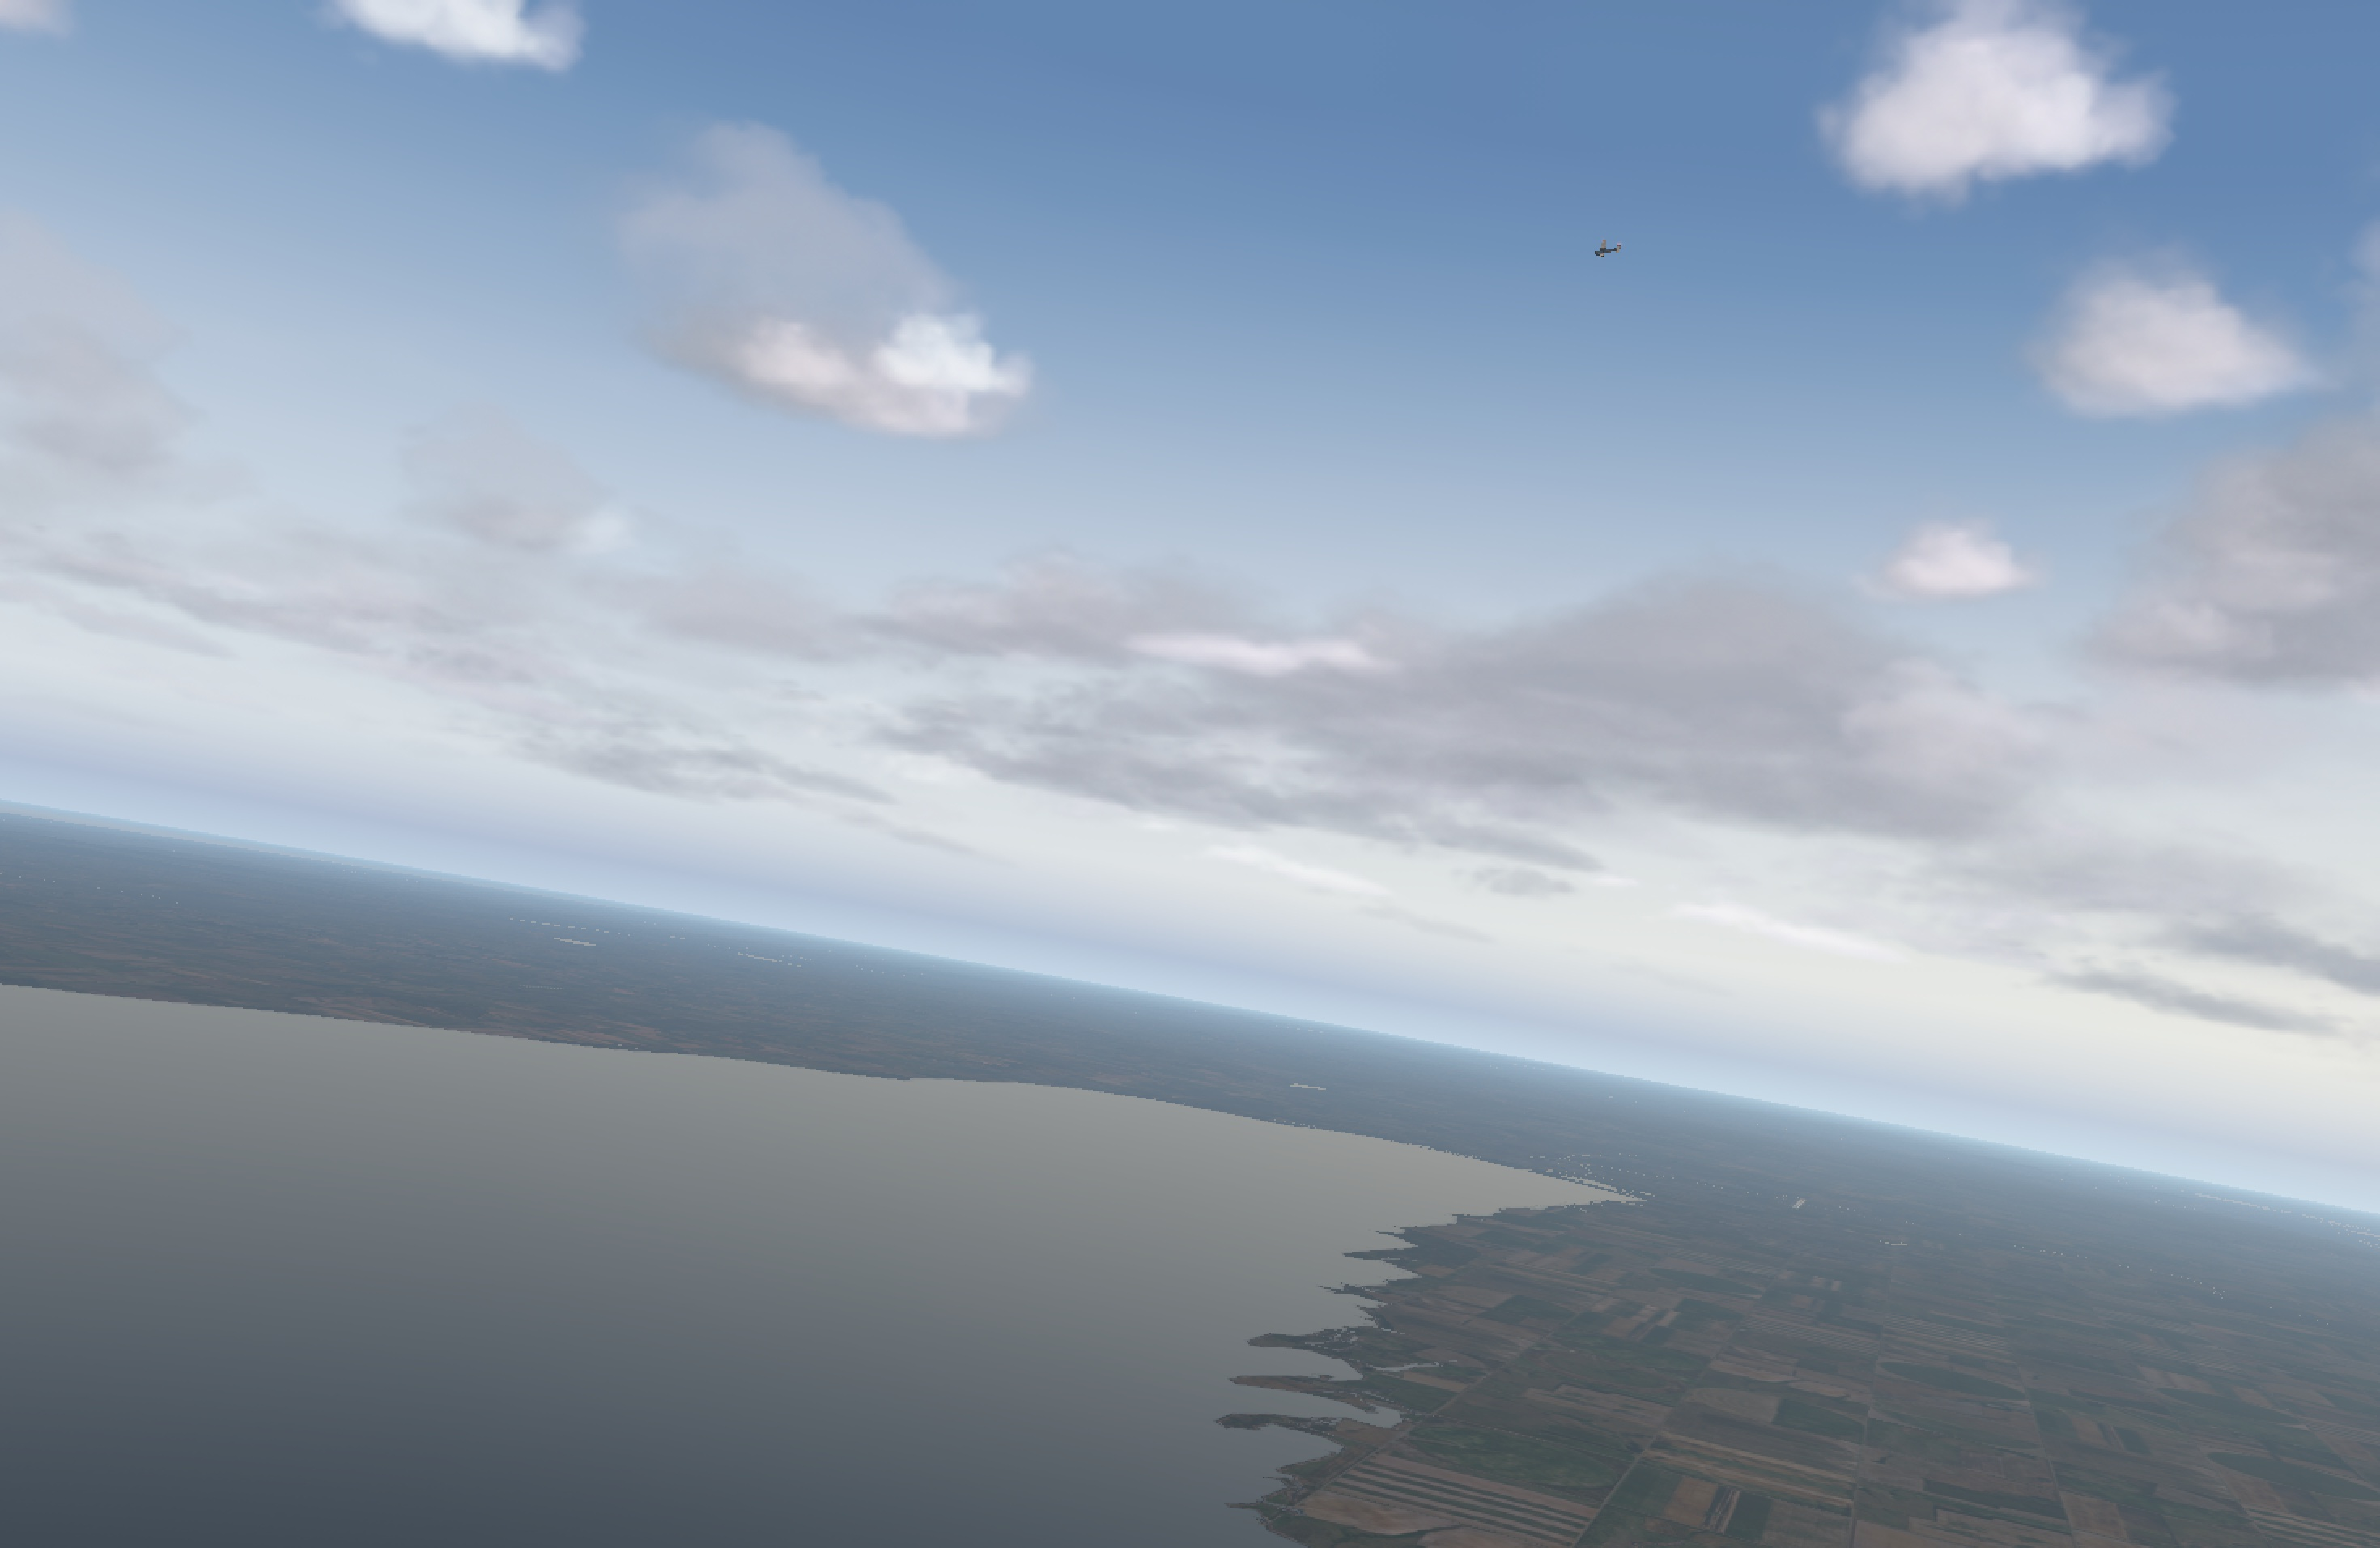aircraft: (1589, 246, 1615, 255)
